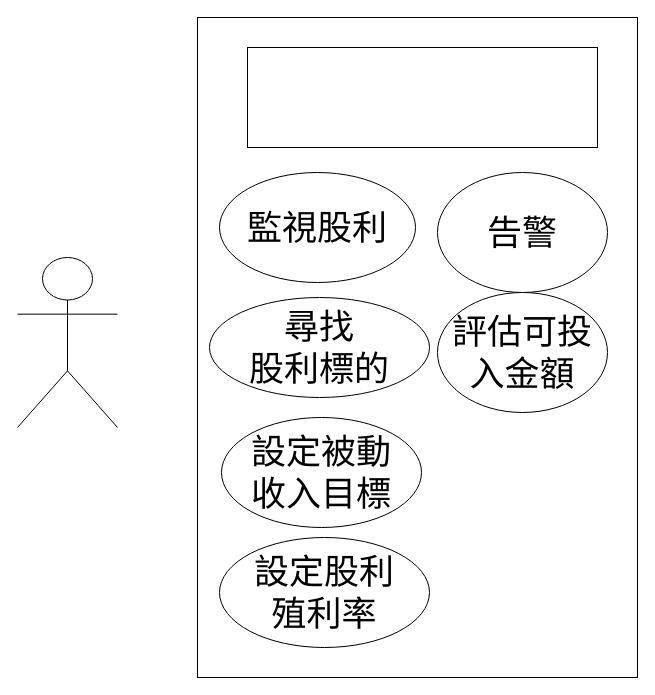
The diagram is 655 pixels wide and 695 high, and some of its shapes have lost their labels. The centre of each missing label's shape, as x and y in pixels:
Actor: (67,342)
利用股利 創造被動收入: (422,97)
